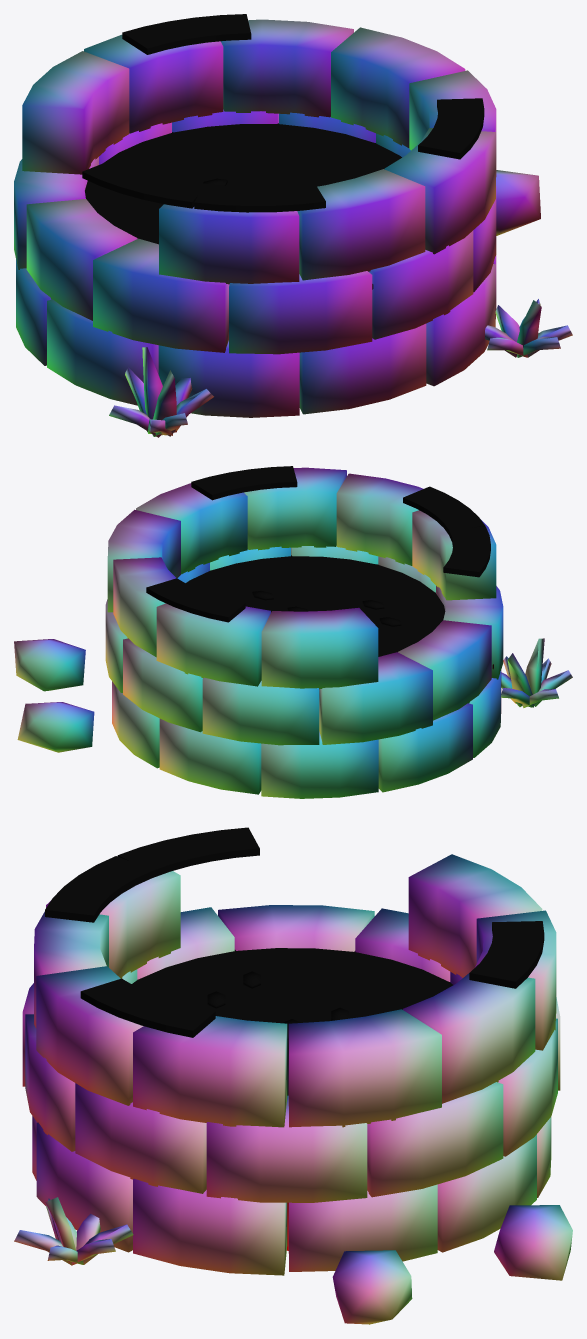
Rendered from SM_Prop_Story_DryWell.fbx.
3 renders of one model, top to bottom at view 1: azimuth 30°, elevation 25°; view 2: azimuth 150°, elevation 25°; view 3: azimuth 270°, elevation 25°, orthographic. The views are drawn at different scales.
Visible parts, largest first — view 1: SM_Prop_Story_DryWell; view 2: SM_Prop_Story_DryWell; view 3: SM_Prop_Story_DryWell.
Part boxes in pixels (left/top/right/bottom): SM_Prop_Story_DryWell: left=14, top=14, right=572, bottom=437; SM_Prop_Story_DryWell: left=14, top=466, right=572, bottom=798; SM_Prop_Story_DryWell: left=14, top=827, right=572, bottom=1324.
Bounding box in the file's own units: 1.79 × 0.6845 × 1.43.
